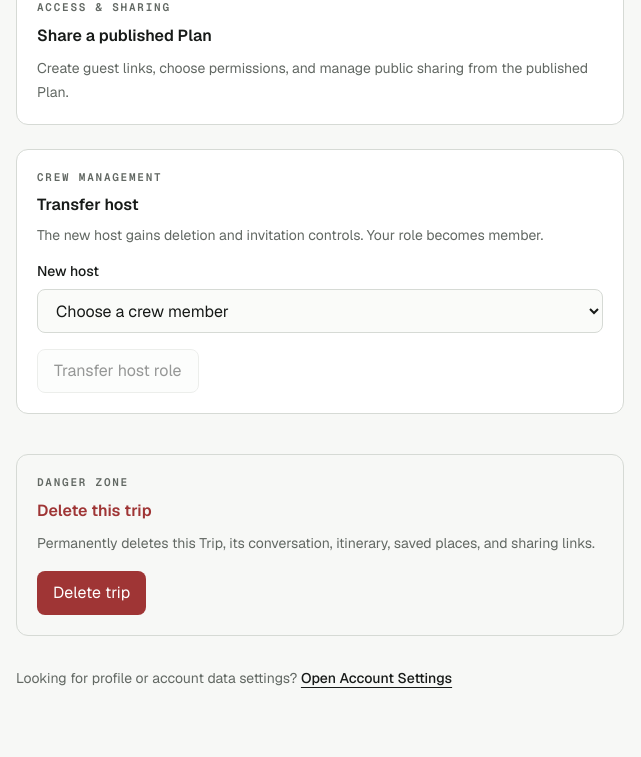
it: TripDangerZone › hides the confirmation until deletion is requested, then requires the exact name
(page scrolled)
Expected: the field labelled "to confirm" is not shown
Expected: the button "Delete permanently" is not shown
Click the button "Delete trip" at (92, 593), box [37, 571, 146, 615]
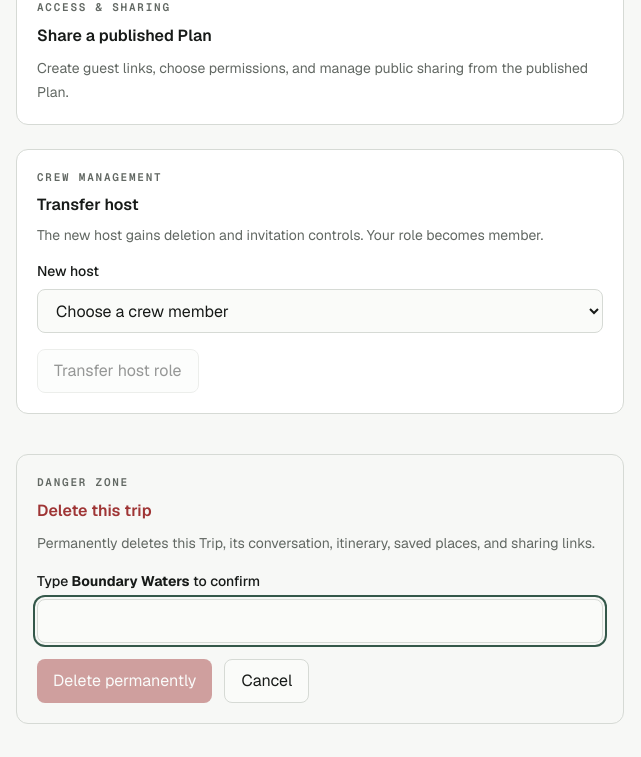
Now the button "Delete permanently" is disabled, box [37, 659, 212, 703]
Type "Boundary Waters" into the field labelled "Type Boundary Waters to confirm" at (320, 621), box [37, 599, 603, 643]
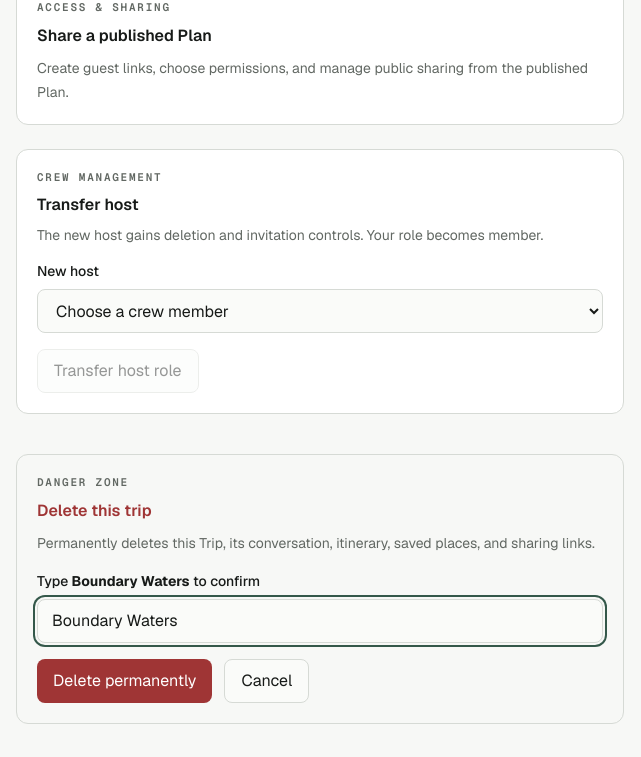
Now the button "Delete permanently" is enabled, box [37, 659, 212, 703]
Note: Cancelling collapses the confirmation entirely, not just the field.
Click the button "Cancel" at (267, 681), box [224, 659, 309, 703]
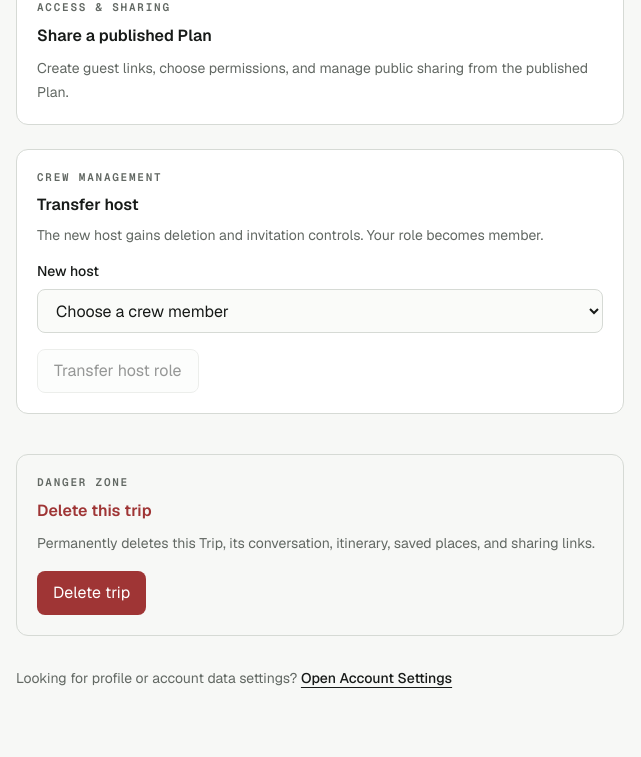
Now the button "Delete permanently" is gone
Now the button "Delete trip" is shown, box [37, 571, 146, 615]
